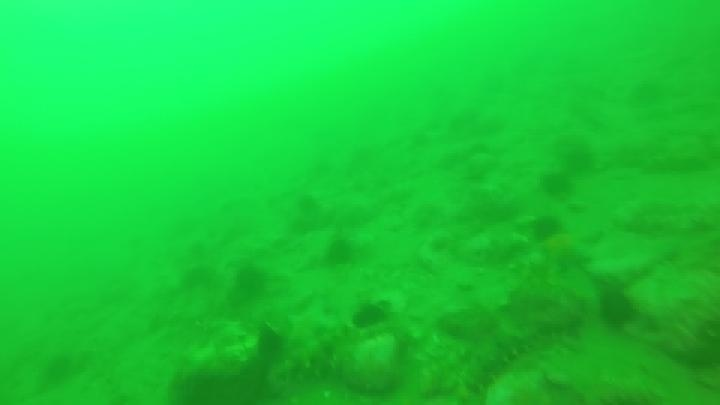echinus: (596, 287, 638, 330), (232, 263, 270, 299), (254, 325, 288, 364), (40, 352, 77, 387), (350, 300, 389, 332), (560, 142, 596, 175), (323, 236, 357, 269), (539, 169, 575, 200), (529, 214, 564, 243)
holothurian: (458, 328, 539, 398), (272, 326, 354, 386)
starfish: (538, 230, 593, 272)
